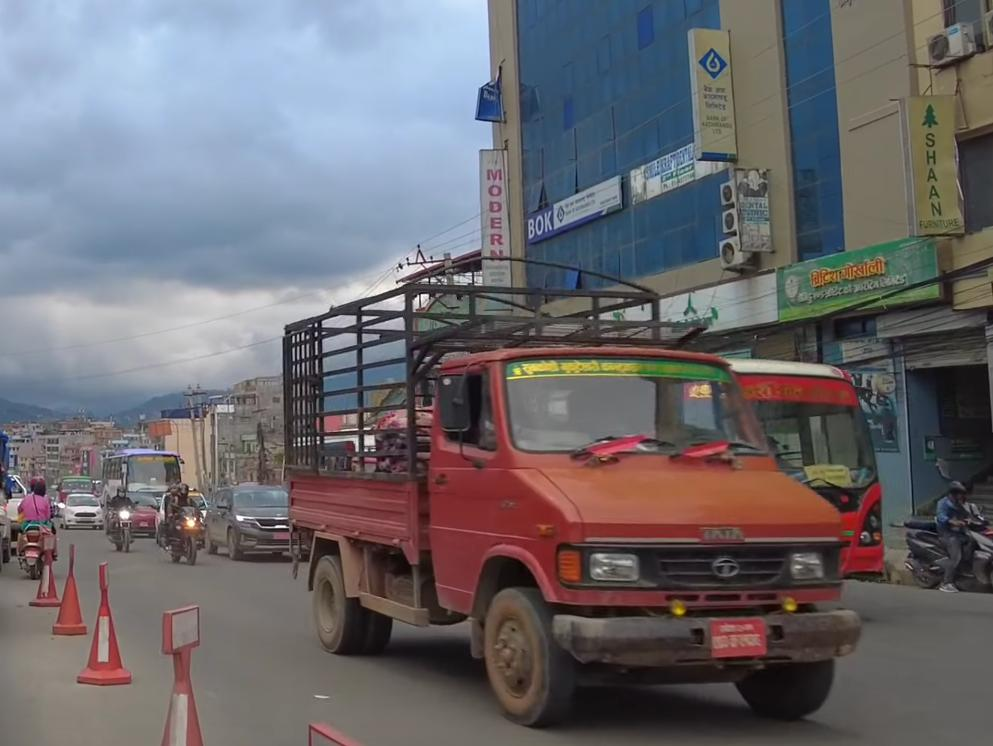bike: (160, 482, 211, 565), (92, 484, 143, 560)
bus: (107, 445, 186, 520)
car: (204, 472, 316, 566), (52, 477, 110, 533)
mini_truck: (267, 244, 869, 734)
scooter: (897, 479, 993, 604), (7, 480, 62, 593)
